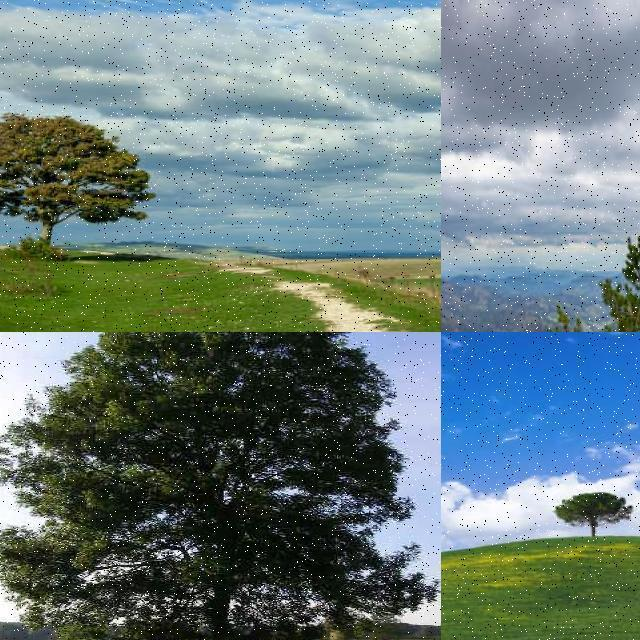tree: (0, 332, 440, 640), (0, 110, 150, 258), (542, 146, 640, 332), (556, 492, 636, 538)
